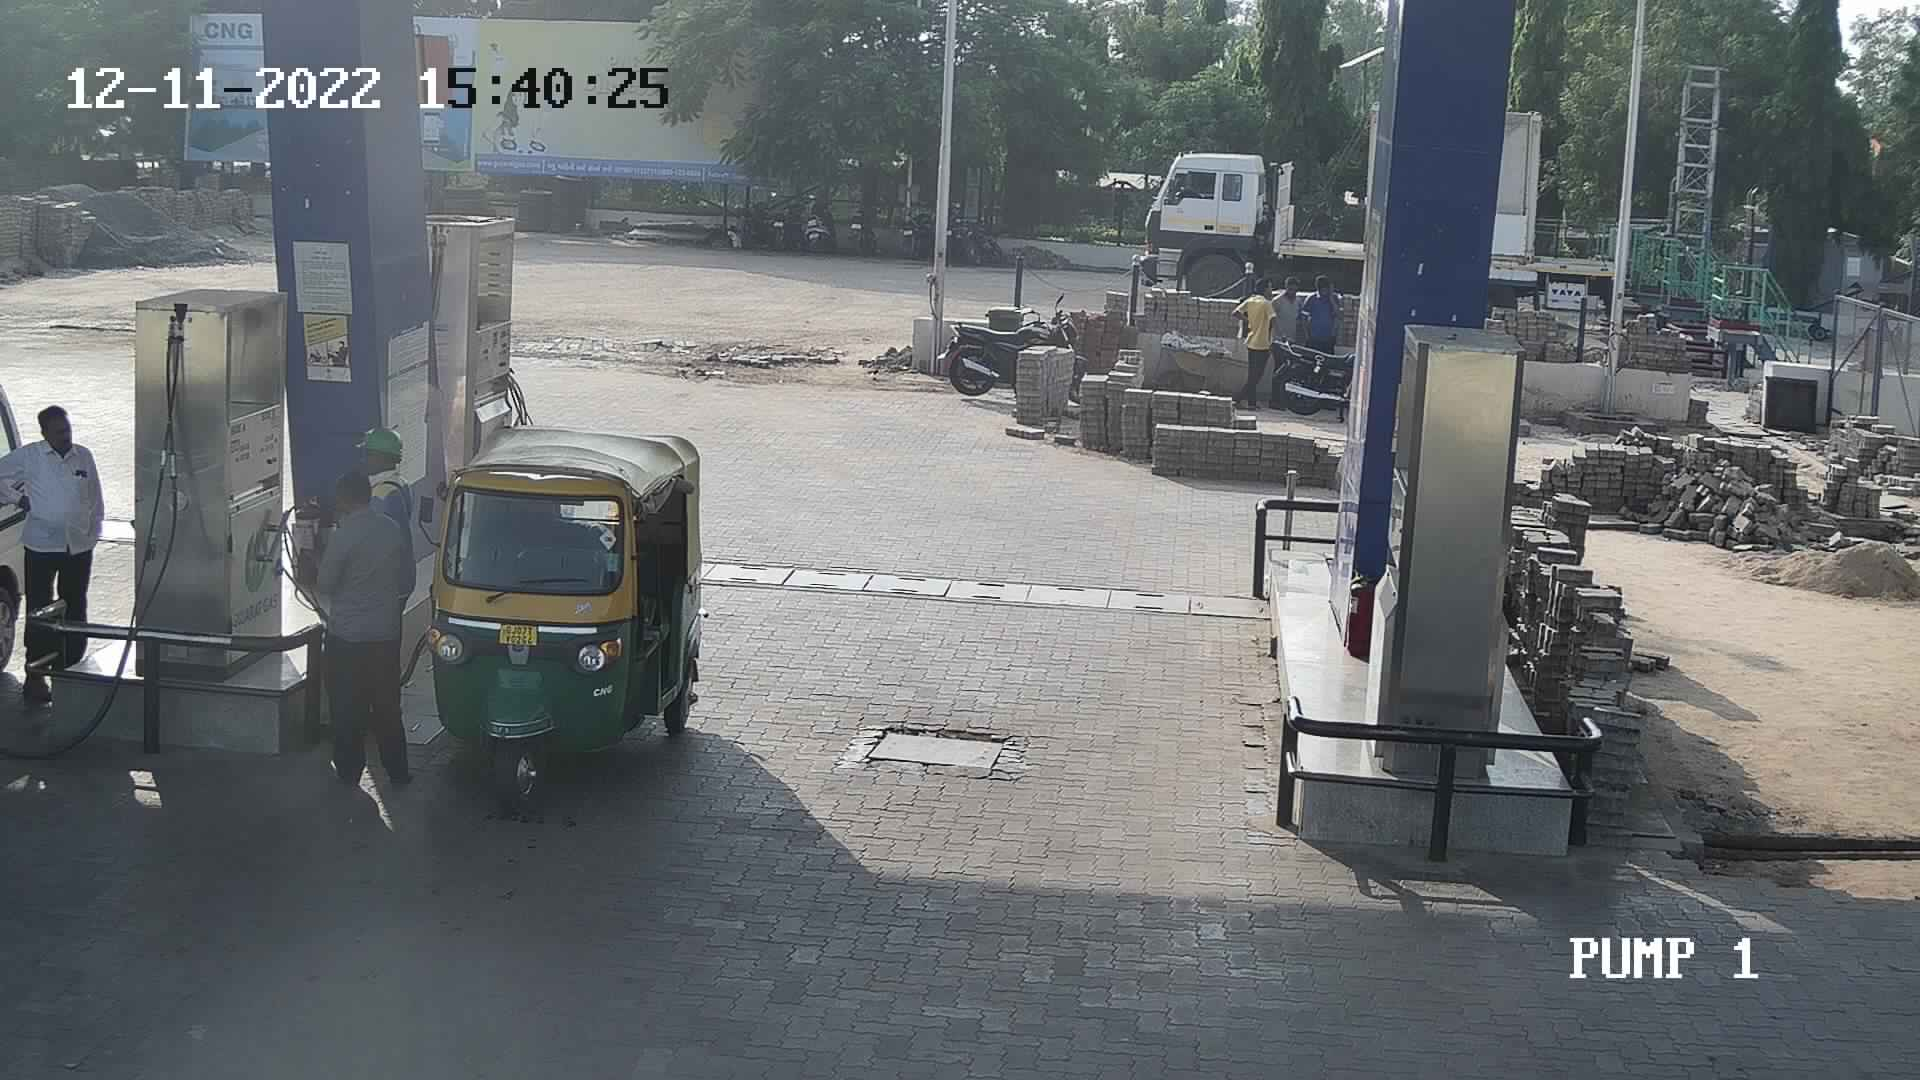Auto: (411, 407, 713, 799)
Bike: (930, 281, 1106, 429), (1255, 326, 1356, 422), (943, 198, 1007, 272), (736, 177, 786, 255), (764, 187, 812, 253), (837, 189, 884, 257), (891, 187, 928, 264), (800, 191, 844, 253)
Car: (0, 349, 40, 713)
HMV: (1120, 95, 1375, 316)
Others: (347, 417, 429, 601)
